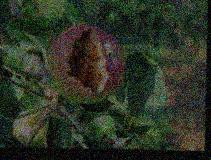rotten apple: (41, 23, 125, 103)
